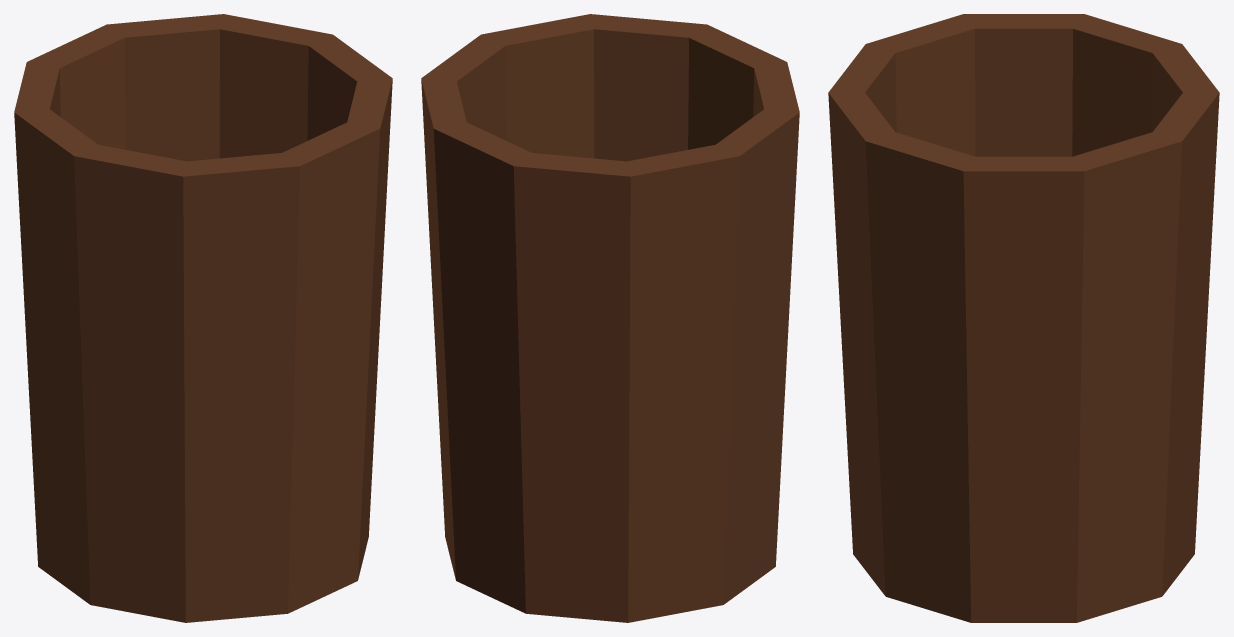
Rendered from Cup.obj.
The picture shows the model from 3 angles, left to right: view 1: azimuth 30°, elevation 25°; view 2: azimuth 150°, elevation 25°; view 3: azimuth 270°, elevation 25°; orthographic projection.
Parts seen in each view (by area): view 1: Cup; view 2: Cup; view 3: Cup.
Boxes of the visible parts, bbox=[...] form: Cup: bbox=[14, 14, 392, 622]; Cup: bbox=[421, 14, 799, 622]; Cup: bbox=[828, 14, 1219, 622].
Bounding box in the file's own units: 0.0858 × 0.1174 × 0.0902.
